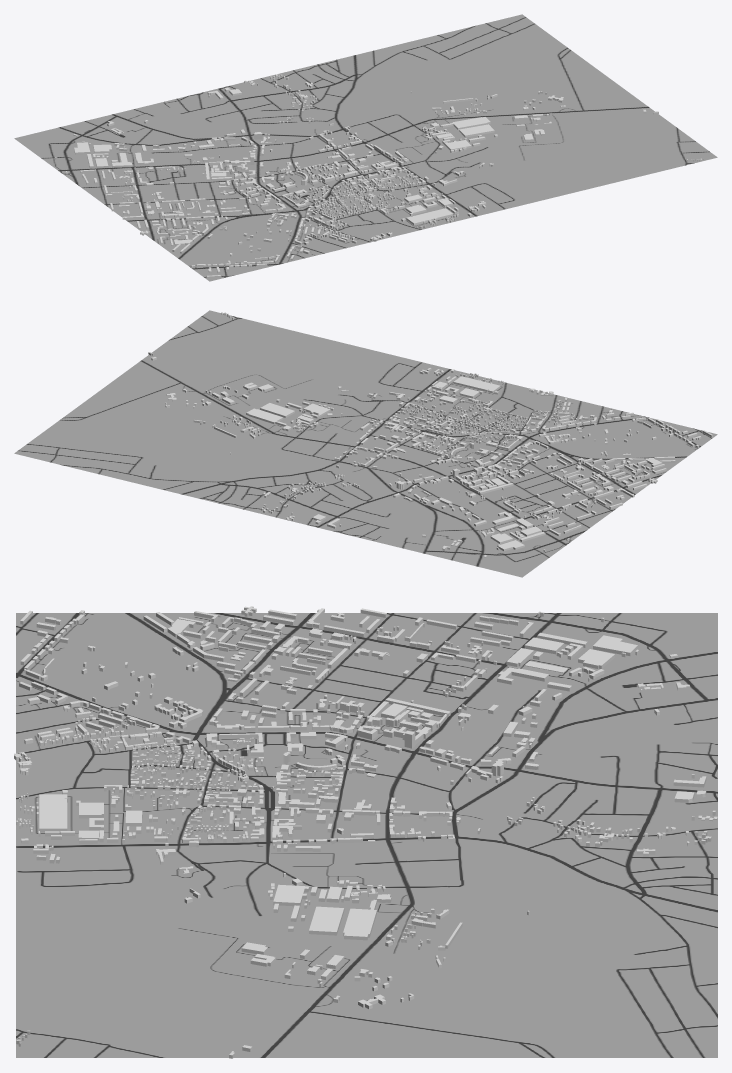
File: fullmap2.glb
3 renders of one model, top to bottom at view 1: azimuth 30°, elevation 25°; view 2: azimuth 150°, elevation 25°; view 3: azimuth 270°, elevation 25°, orthographic. The views are drawn at different scales.
Parts seen in each view (by area): view 1: EXPORT_OSM_MAPNIK_WM, Areas:building; view 2: EXPORT_OSM_MAPNIK_WM, Areas:building; view 3: EXPORT_OSM_MAPNIK_WM, Areas:building.
Part boxes in pixels (box(x1,y1,x2,y2)): EXPORT_OSM_MAPNIK_WM: box(14, 14, 717, 281); Areas:building: box(55, 74, 703, 278); EXPORT_OSM_MAPNIK_WM: box(14, 310, 717, 577); Areas:building: box(148, 312, 712, 557); EXPORT_OSM_MAPNIK_WM: box(16, 613, 717, 1057); Areas:building: box(14, 606, 717, 1058).
Bounding box in the file's own units: 5556 × 96.77 × 3680.
Materials: 24 (1 with a texture image).
